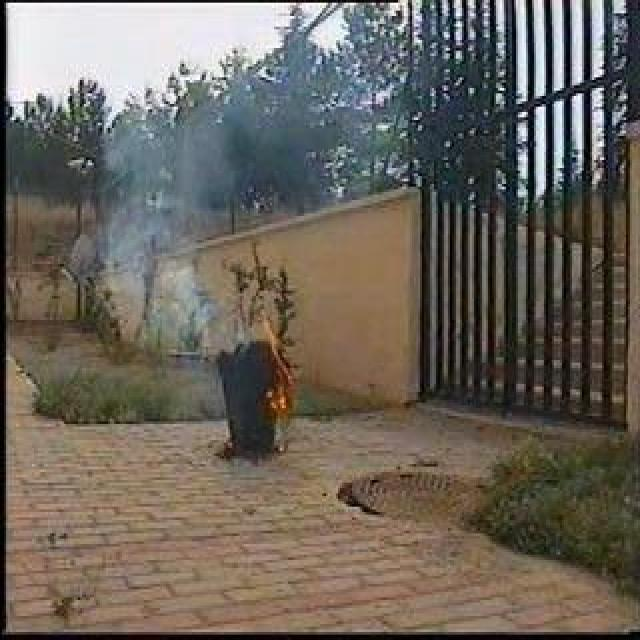fire: (264, 337, 302, 415)
smoke: (121, 133, 207, 350)
